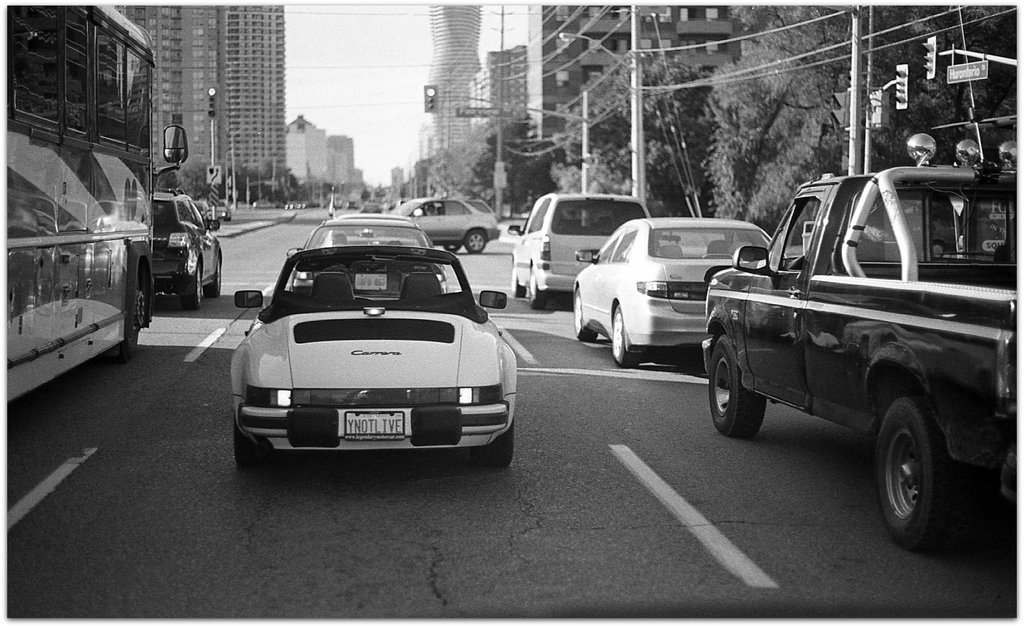cars: (693, 0, 1023, 547), (226, 248, 513, 470), (571, 221, 774, 368), (507, 194, 648, 302), (289, 222, 445, 293), (155, 187, 217, 311), (393, 197, 498, 254)
